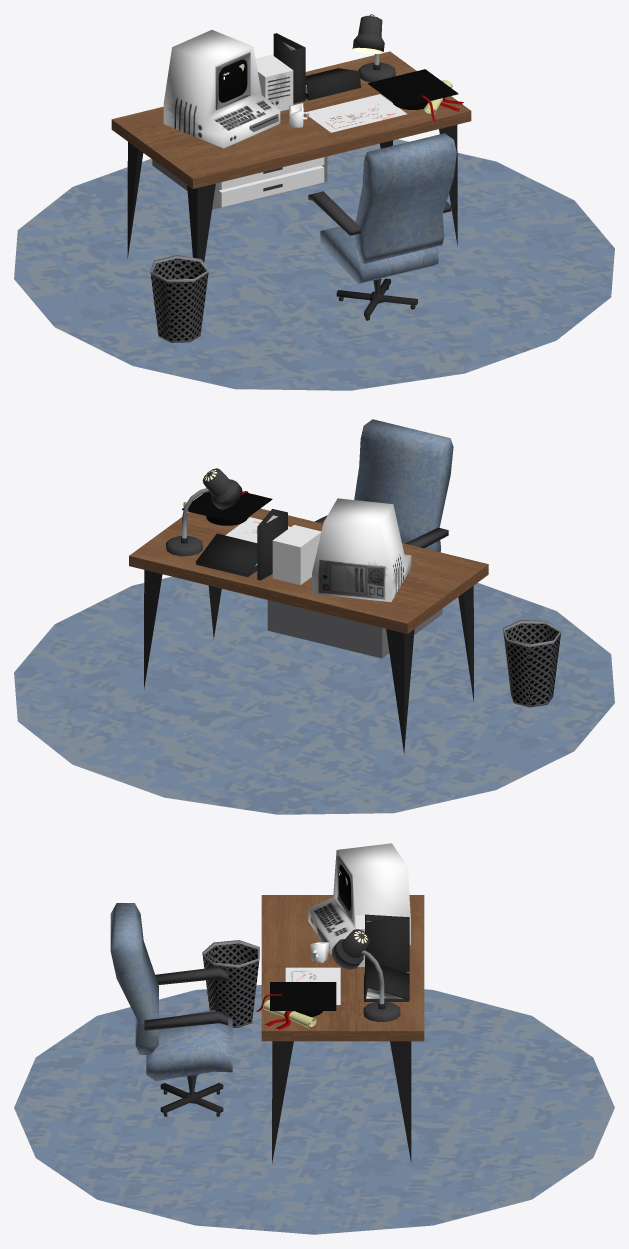
Rendered from prop 3D_FINAL.glb.
3 renders of one model, top to bottom at view 1: azimuth 30°, elevation 25°; view 2: azimuth 150°, elevation 25°; view 3: azimuth 270°, elevation 25°, orthographic.
Parts seen in each view (by area): view 1: Plane.001, Cube.001, Cylinder; view 2: Plane.001, Cube.001, Cylinder; view 3: Plane.001, Cube.001, Cylinder, BezierCurve.
Boxes of the visible parts, x1,y1,x2,y2 form: Plane.001: [14, 139, 614, 390]; Cube.001: [111, 14, 471, 342]; Cylinder: [368, 69, 458, 109]; Plane.001: [14, 576, 614, 814]; Cube.001: [129, 419, 561, 753]; Cylinder: [182, 492, 272, 525]; Plane.001: [14, 985, 614, 1234]; Cube.001: [110, 843, 424, 1163]; Cylinder: [270, 982, 336, 1016]; BezierCurve: [263, 999, 316, 1029].
Bounding box in the file's own units: 3.73 × 1.47 × 3.73.
Materials: 4 (1 with a texture image).
